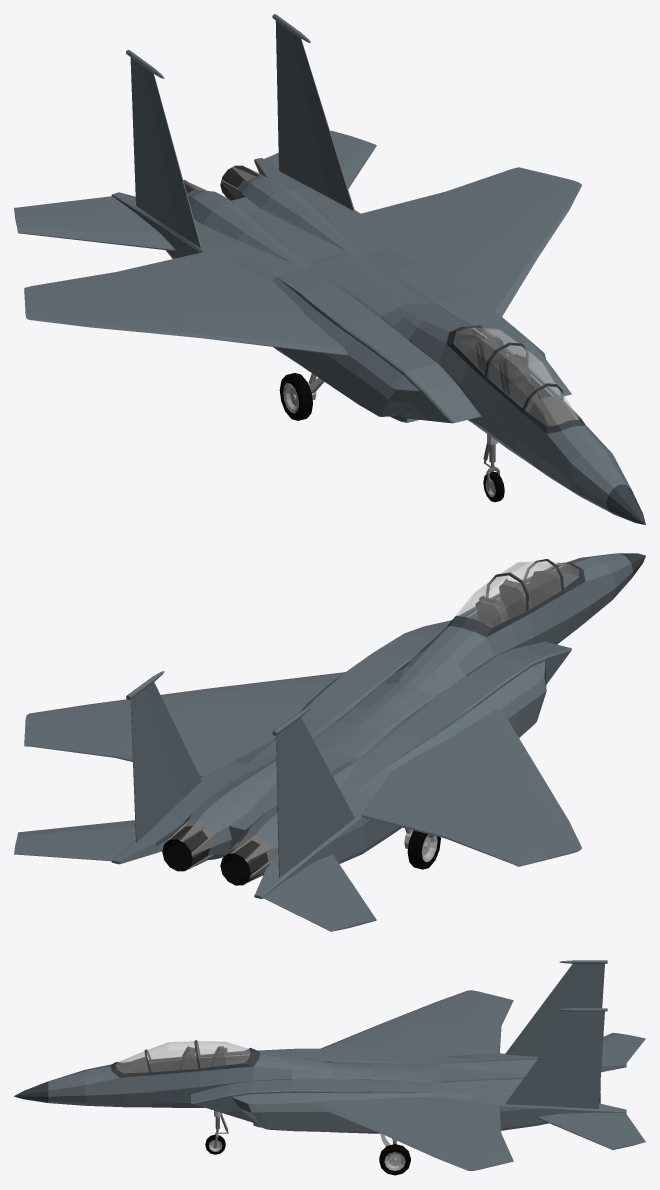
The picture shows the model from 3 angles, top to bottom: view 1: azimuth 30°, elevation 25°; view 2: azimuth 150°, elevation 25°; view 3: azimuth 270°, elevation 25°; orthographic projection. The views are drawn at different scales.
Parts seen in each view (by area): view 1: Circle, Circle.012, Circle.001, Circle.005, Circle.011, Circle.010, Circle.002, Landing gear_RL.001, Circle.004, Circle.003, Circle.009, Landing gear_F; view 2: Circle, Circle.001, Circle.012, Circle.004, Circle.011, Circle.005, Circle.002, Circle.003, Circle.009, Landing gear_RL.001, Circle.010; view 3: Circle, Circle.001, Circle.004, Circle.005, Circle.012, Landing gear_RL, Circle.002, Circle.010, Circle.011, Circle.009, Circle.003, Landing gear_F.
Boxes of the visible parts, bbox=[...] form: Circle: bbox=[24, 14, 645, 524]; Circle.012: bbox=[14, 196, 175, 251]; Circle.001: bbox=[446, 325, 561, 412]; Circle.005: bbox=[275, 20, 303, 183]; Circle.011: bbox=[130, 57, 156, 219]; Circle.010: bbox=[361, 191, 465, 228]; Circle.002: bbox=[116, 252, 230, 285]; Landing gear_RL.001: bbox=[279, 373, 323, 420]; Circle.004: bbox=[264, 130, 376, 188]; Circle.003: bbox=[33, 272, 135, 294]; Circle.009: bbox=[446, 169, 524, 204]; Landing gear_F: bbox=[483, 434, 504, 502]; Circle: bbox=[24, 553, 645, 898]; Circle.001: bbox=[446, 559, 563, 637]; Circle.012: bbox=[263, 854, 376, 931]; Circle.004: bbox=[14, 820, 135, 861]; Circle.011: bbox=[275, 729, 305, 877]; Circle.005: bbox=[130, 693, 159, 842]; Circle.002: bbox=[361, 797, 466, 838]; Circle.003: bbox=[446, 820, 524, 863]; Circle.009: bbox=[32, 737, 132, 757]; Landing gear_RL.001: bbox=[404, 828, 440, 869]; Circle.010: bbox=[115, 743, 230, 778]; Circle: bbox=[14, 960, 626, 1170]; Circle.001: bbox=[145, 1040, 259, 1075]; Circle.004: bbox=[536, 1112, 645, 1149]; Circle.005: bbox=[567, 1011, 604, 1108]; Circle.012: bbox=[602, 1032, 645, 1063]; Landing gear_RL: bbox=[379, 1133, 410, 1175]; Circle.002: bbox=[472, 1024, 501, 1054]; Circle.010: bbox=[472, 1101, 501, 1132]; Circle.011: bbox=[582, 963, 604, 1008]; Circle.009: bbox=[474, 1131, 512, 1158]; Circle.003: bbox=[474, 1001, 512, 1025]; Landing gear_F: bbox=[205, 1110, 228, 1154].
Size of the model in its own units: 1284 by 565 by 1903.
